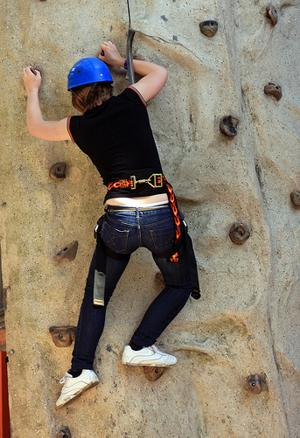person: (22, 41, 200, 412)
